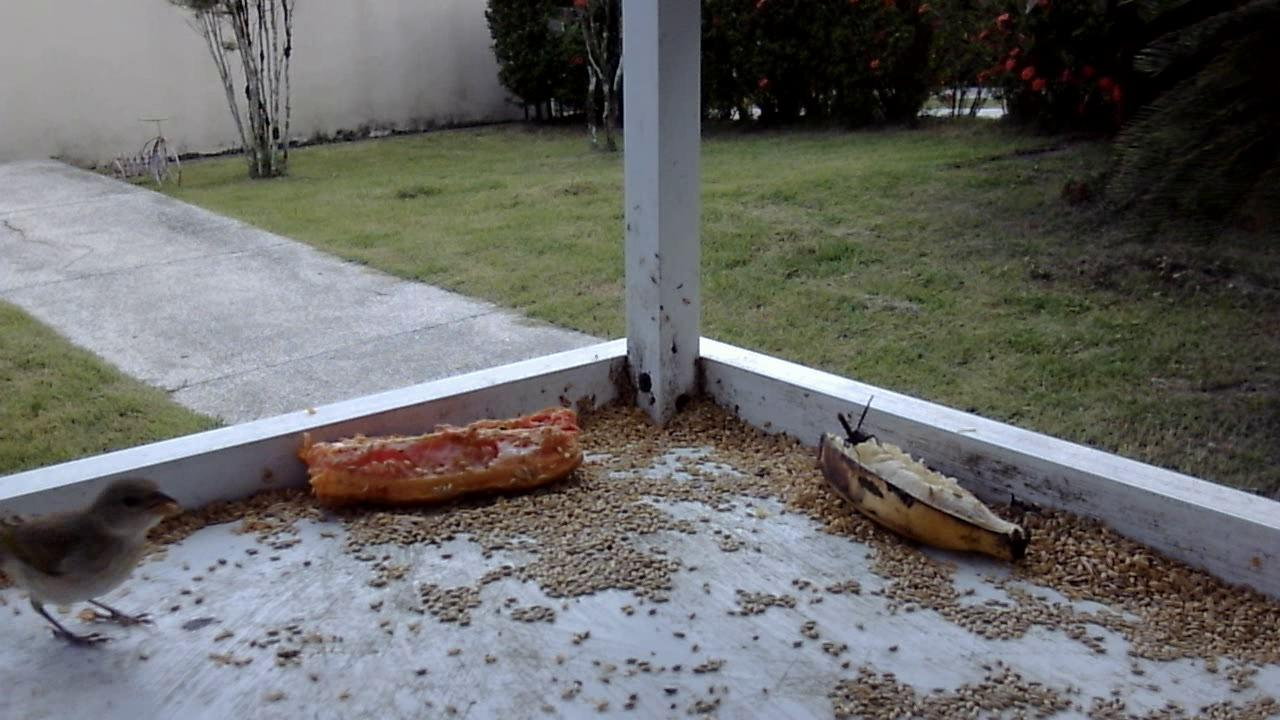canario_do_amazonas: (1, 472, 198, 660)
